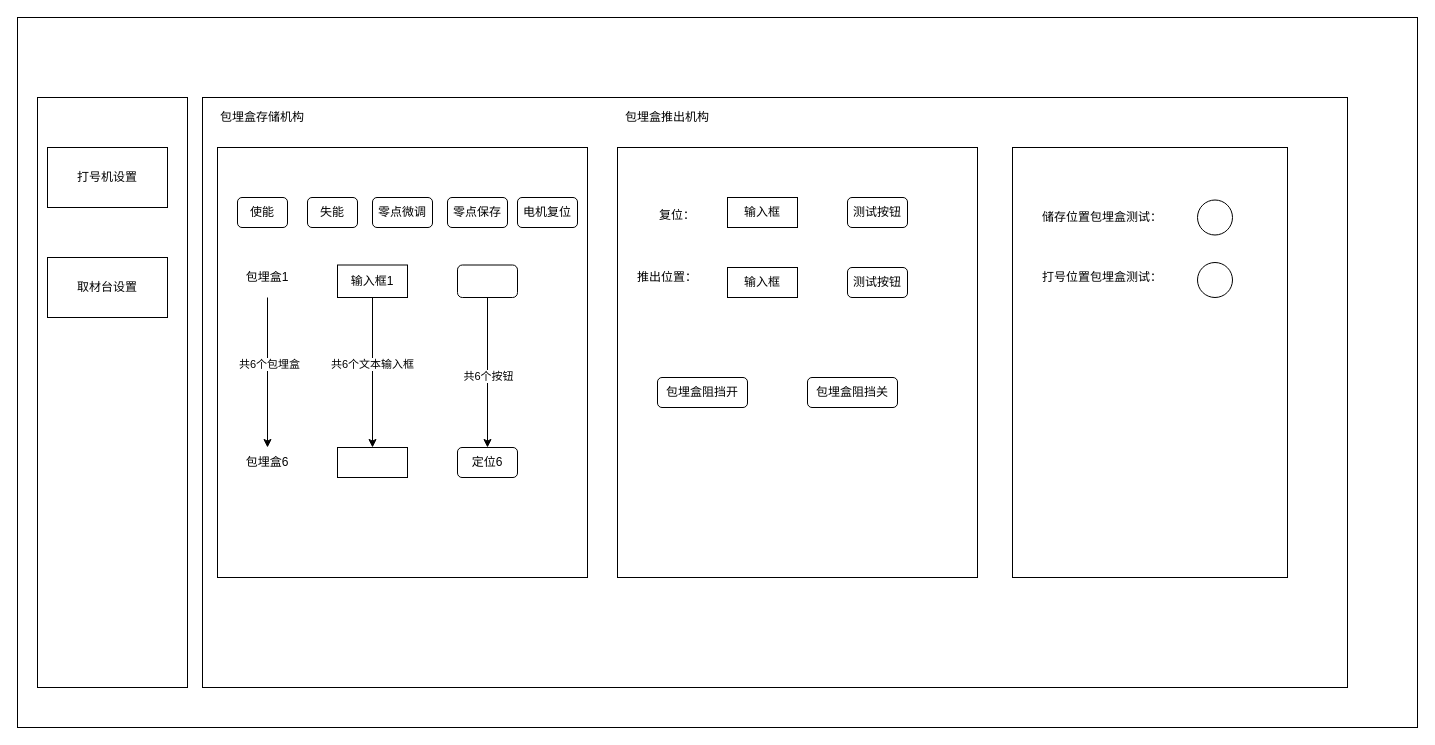
Some shapes in this 1435 by 745 pixel diagram are drawn without their labels. Here are the shapes that lost their labels. From the top down, the centre of each, then its label:
At point (487, 281): "定位1".
At point (372, 462): "输入框6".
